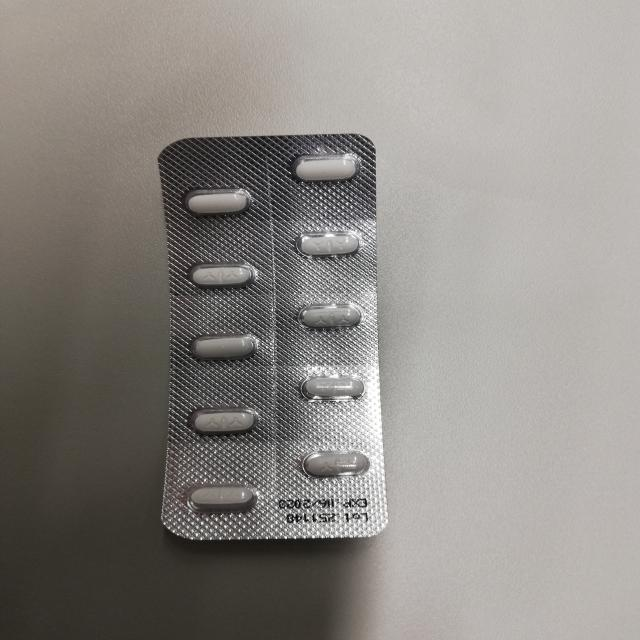Pill: (178, 401, 265, 442), (283, 147, 367, 189), (172, 183, 261, 221), (294, 441, 370, 484), (293, 365, 372, 406), (187, 257, 265, 296), (182, 479, 261, 517), (290, 224, 366, 262), (185, 329, 261, 365), (294, 297, 365, 335)
